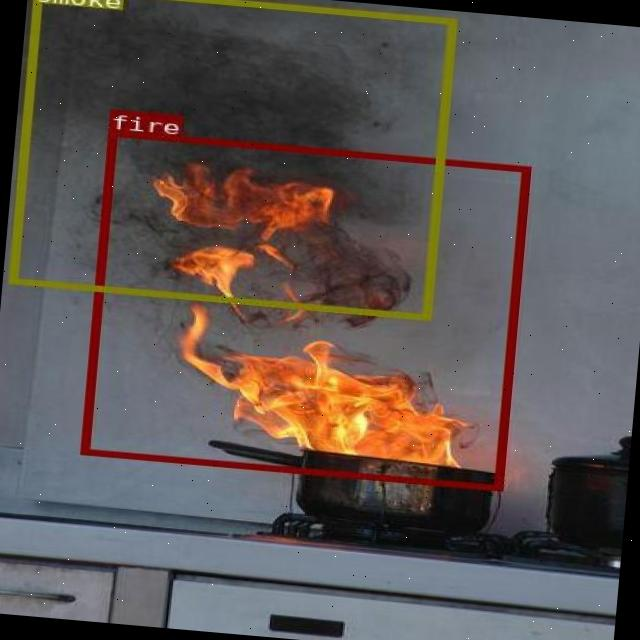fire: (80, 128, 528, 488)
smoke: (7, 0, 456, 319)
